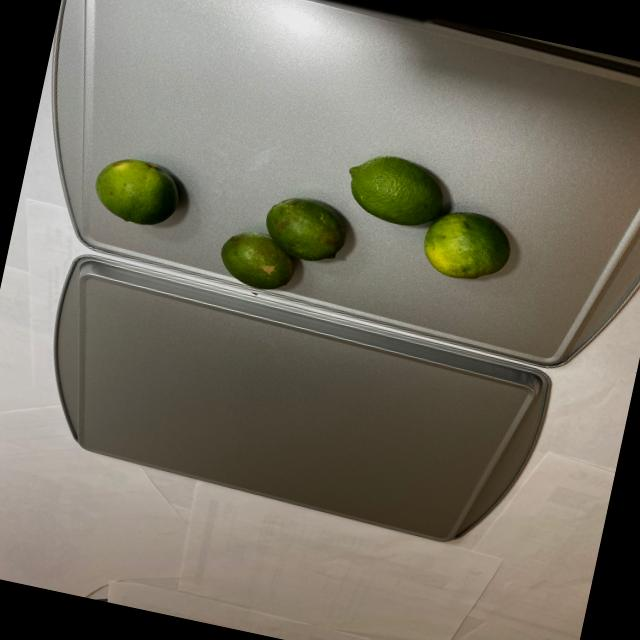lemon: (210, 122, 530, 340), (86, 149, 186, 232)
